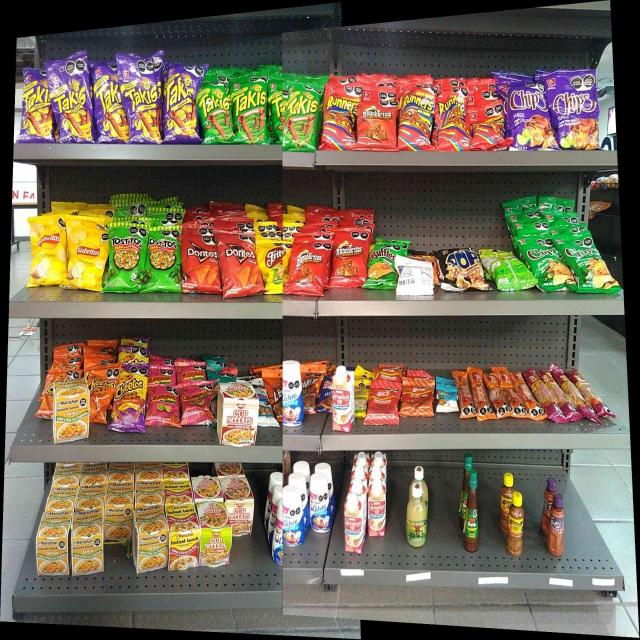bitzAlmendras: (435, 380, 456, 412)
bitzEnchilado90: (401, 375, 432, 418), (370, 381, 398, 428)
bitzEnchilado95: (459, 368, 522, 422)
bitzHabanero: (548, 368, 604, 422), (526, 366, 546, 392)
botaneraChilito: (508, 490, 526, 560)
cheetosFlaminHot: (117, 369, 146, 431)
cheetosOriginal: (91, 368, 115, 406)
chipsFuego: (551, 73, 597, 148), (509, 80, 546, 150)
chipsJalapeno: (568, 243, 605, 294), (531, 246, 564, 292)
churrumais: (182, 382, 214, 426), (148, 382, 179, 426)
delPrimoSalsa: (405, 485, 430, 548)
doritosNacho: (220, 233, 256, 295), (183, 236, 215, 294)
fritosLimon: (260, 238, 288, 296)
maruchanPollo: (132, 508, 168, 573), (36, 511, 70, 575), (52, 383, 88, 443), (73, 511, 104, 573), (106, 482, 130, 539)
maruchanRes: (170, 504, 196, 570)
nestleCarnation: (332, 368, 354, 434), (342, 495, 366, 554), (367, 480, 386, 537)
nestleLechera: (308, 474, 334, 533), (282, 362, 305, 428), (284, 486, 305, 546)
nissinCamaron: (199, 501, 232, 569)
nissinRes: (218, 384, 257, 446), (234, 475, 253, 536)
popKarameladas: (440, 250, 480, 292)
productoAtras: (487, 250, 522, 292), (400, 256, 435, 296)
rancheritos: (359, 100, 396, 152), (332, 233, 364, 287), (292, 242, 323, 294)
rufflesQueso: (367, 240, 398, 289)
runners: (400, 88, 435, 150), (324, 85, 355, 151), (437, 89, 466, 154)
sabritasOriginal: (68, 217, 104, 291), (29, 218, 66, 287)
salsaBufalo: (464, 469, 479, 553)
tajinDulce: (547, 493, 566, 558)
takisFuego: (127, 51, 164, 142), (52, 61, 89, 141), (92, 61, 125, 142), (165, 60, 196, 144), (22, 68, 47, 141)
takisOriginal: (284, 82, 320, 150), (232, 80, 266, 144), (200, 82, 228, 144)
tostitos: (106, 224, 144, 292), (148, 225, 180, 291)
